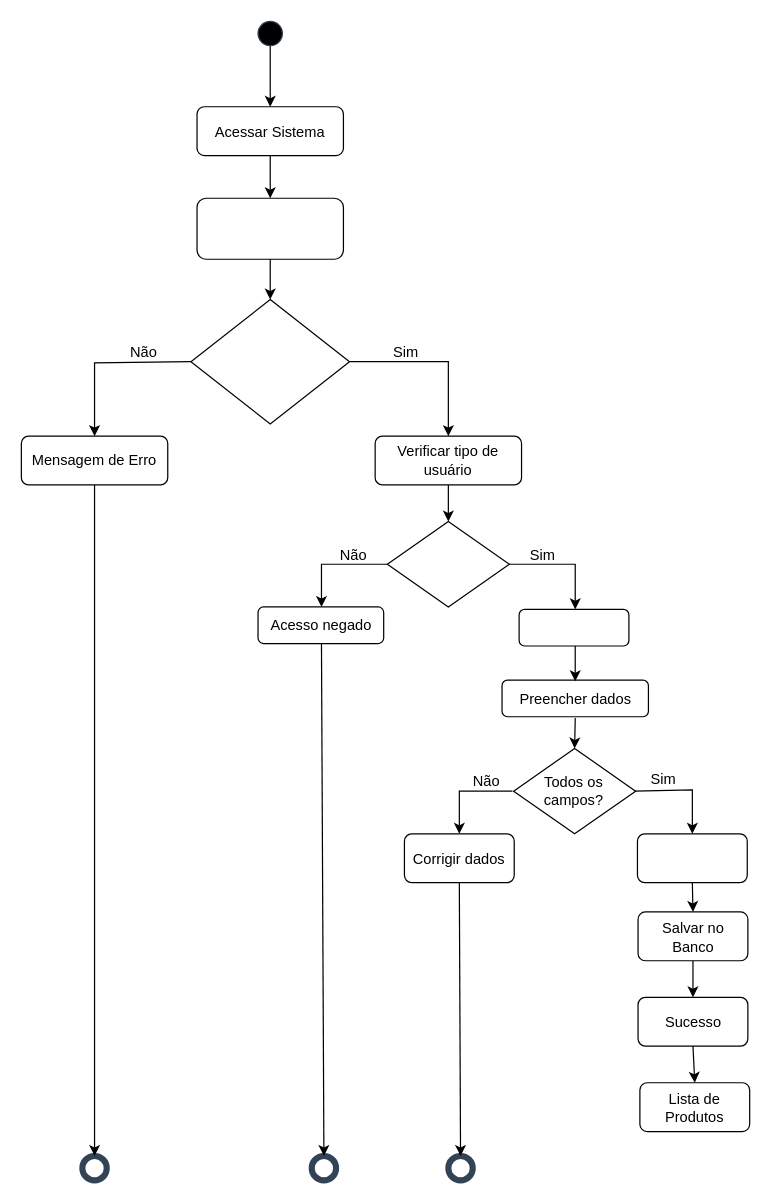
The diagram is 771 pixels wide and 1204 high, and some of its shapes have lost their labels. The box of each missing label's shape, as (x1, y1, x2, y2) in pixels:
Cadastrar Produto: (636, 833, 747, 883)
Dados válidos?: (190, 298, 350, 424)
Informar login e senha: (196, 197, 343, 259)
Novo produto: (518, 608, 629, 646)
É ADM?: (386, 520, 509, 607)
